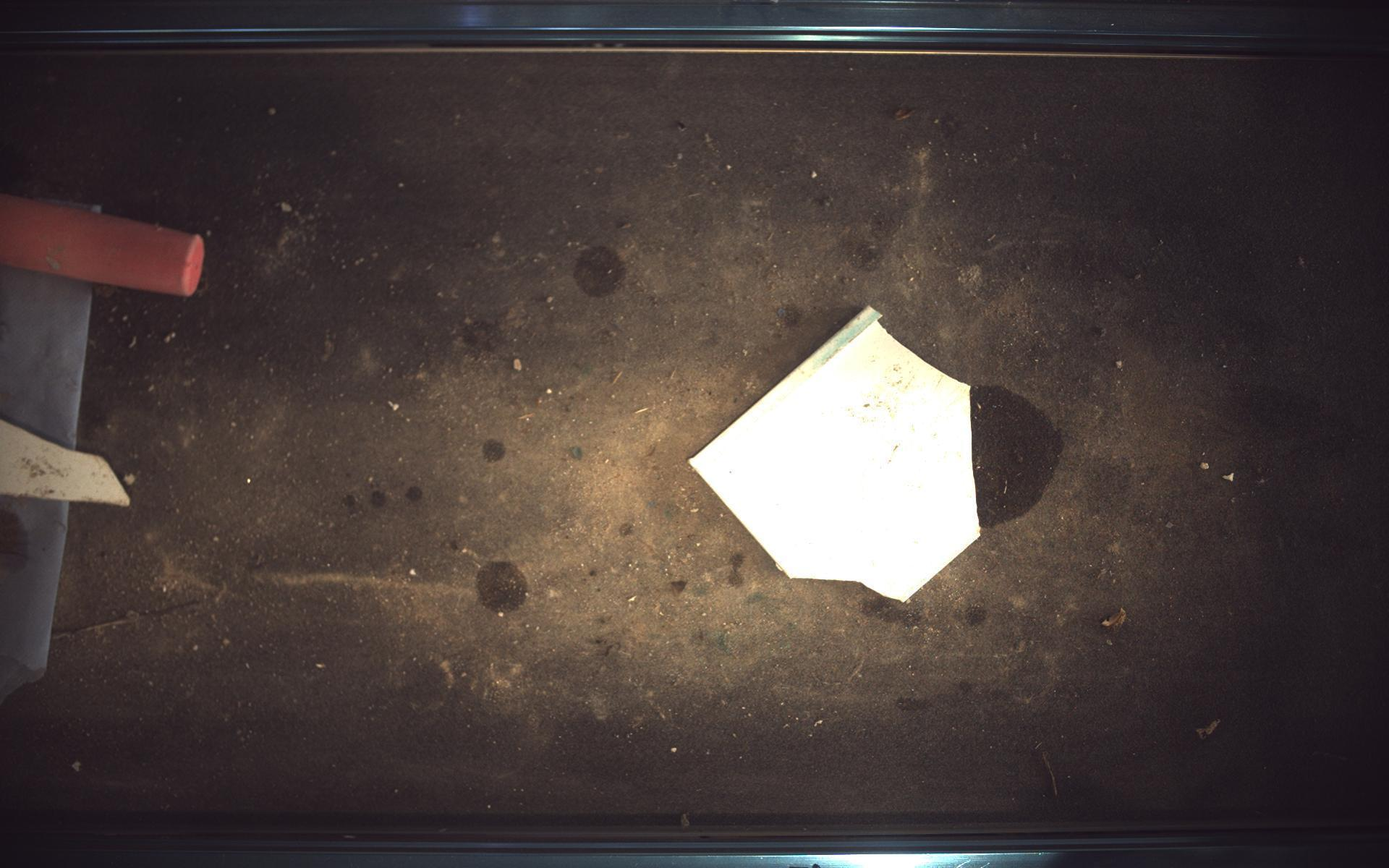plastic: (691, 307, 982, 602), (1, 194, 203, 296), (1, 420, 129, 506)
